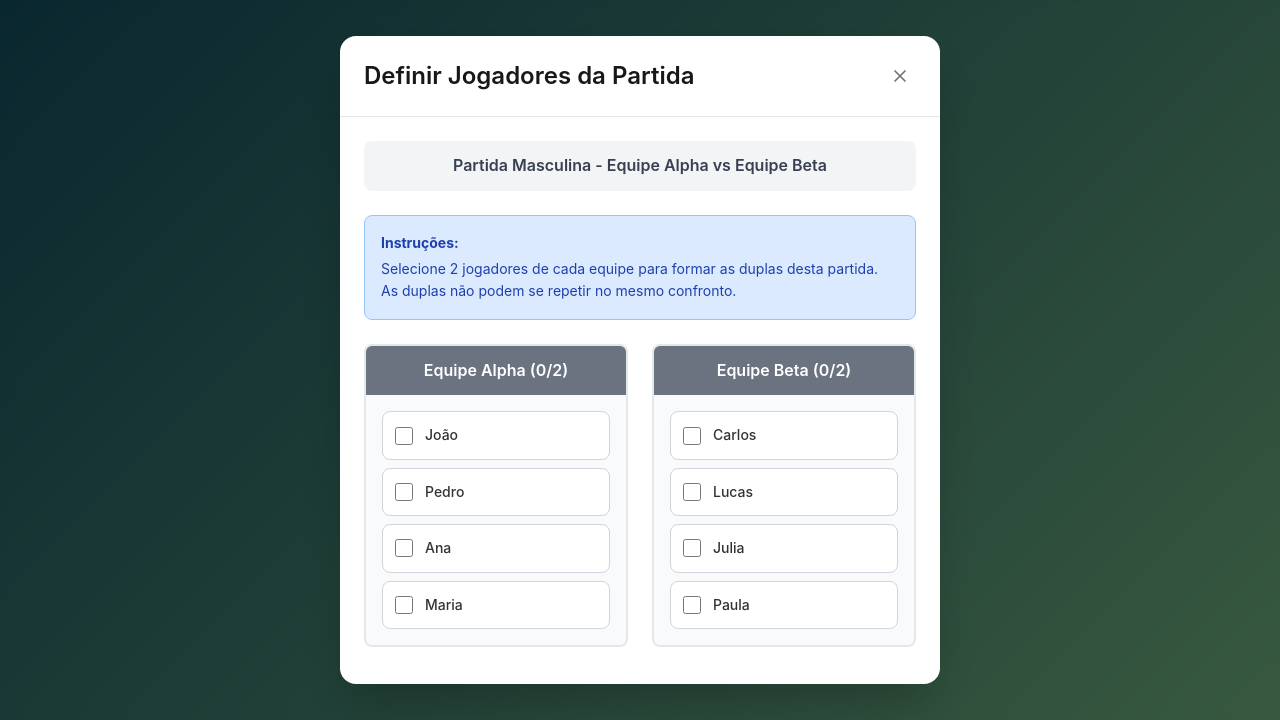
Test case: ModalDefinirJogadoresPartida › seleção de jogadores › deve atualizar contador ao selecionar jogadores
The width and height of the screenshot is (1280, 720).
Click the checkbox labelled "João": click(404, 436) [395,426,413,444]
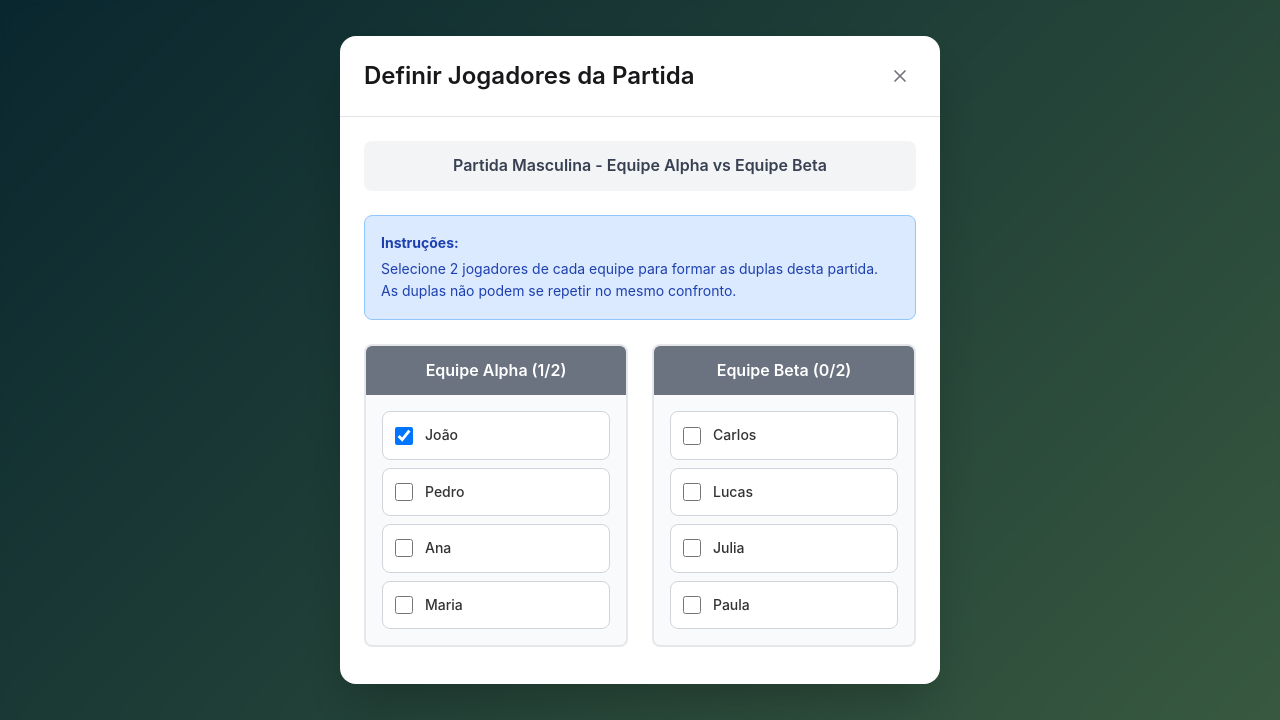
Expected: the text "Equipe Alpha (1/2)" is shown, [366,346,626,395]
Click the checkbox labelled "Pedro": click(404, 492) [395,483,413,501]
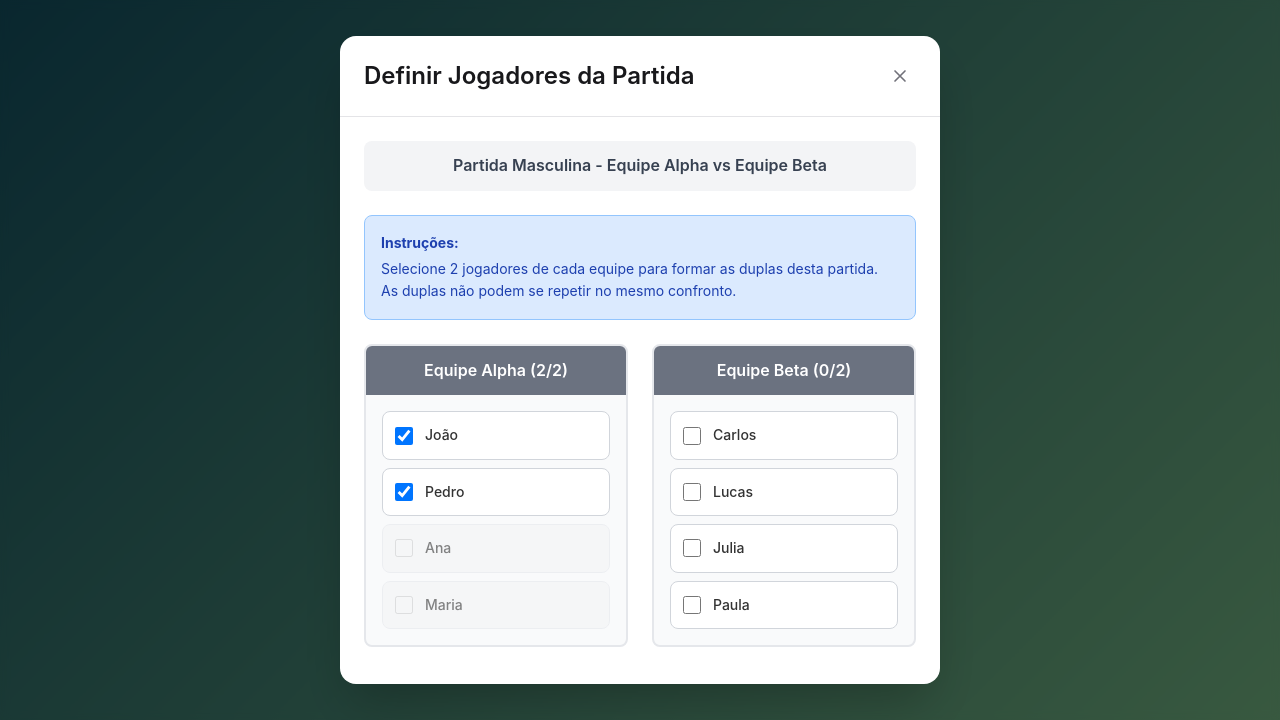
Expected: the text "Equipe Alpha (2/2)" is shown, [366,346,626,395]
